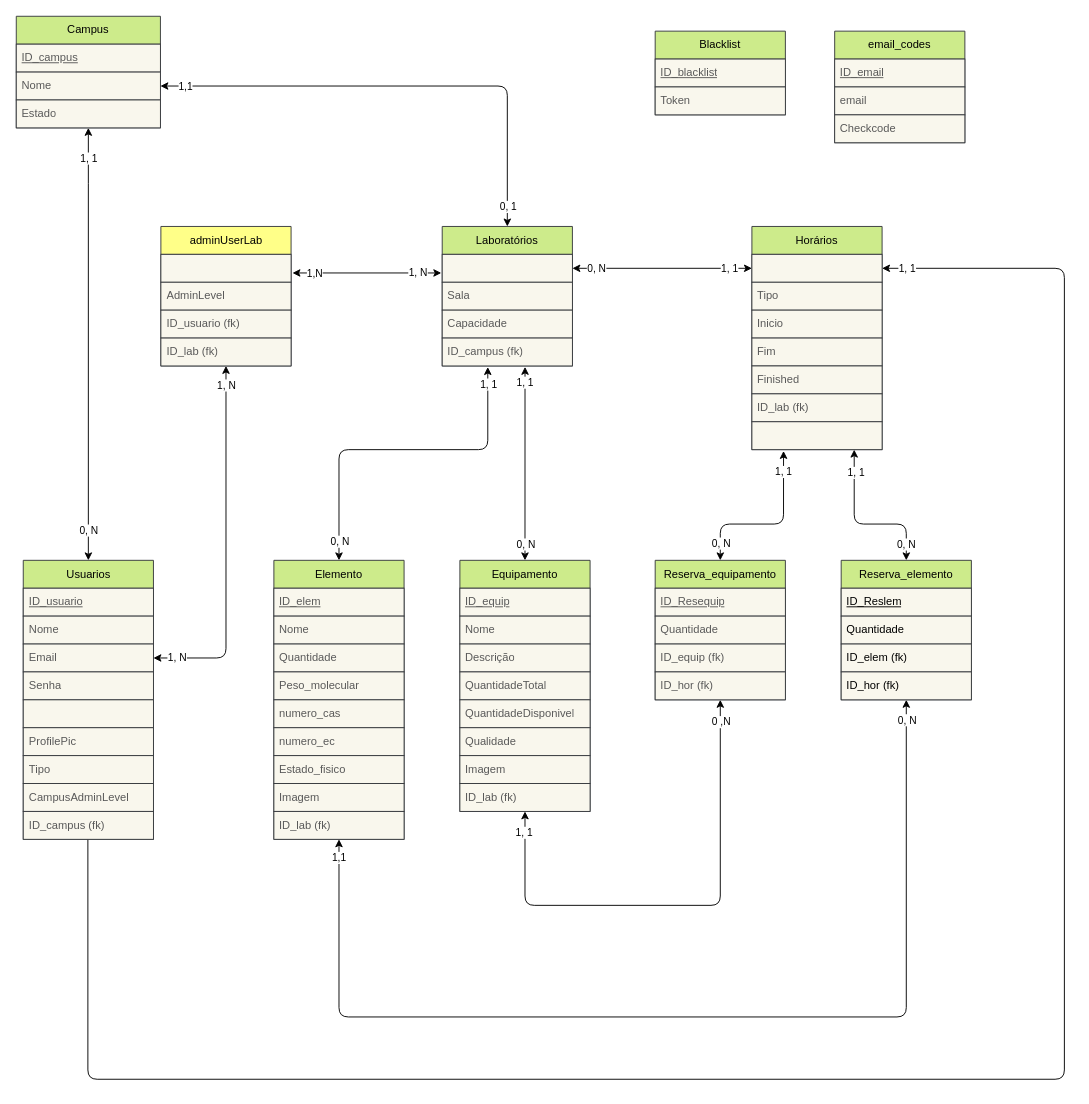
The diagram is 1089 pixels wide and 1104 high, and some of its shapes have lost their labels. The shapes that lost their labels are listed below. From the top down, each one's centre as x and y in pixels, then its label:
At (225,267): "ID_relation".
At (506,267): "ID_lab".
At (816,267): "ID_hor".
At (816,435): "ID_user (fk)".
At (87,713): "Salt".
